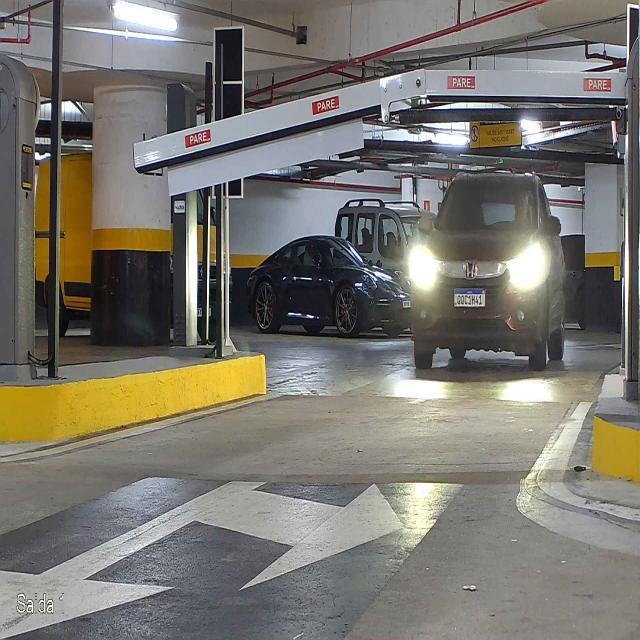mercosul_plate: (453, 286, 487, 308)
